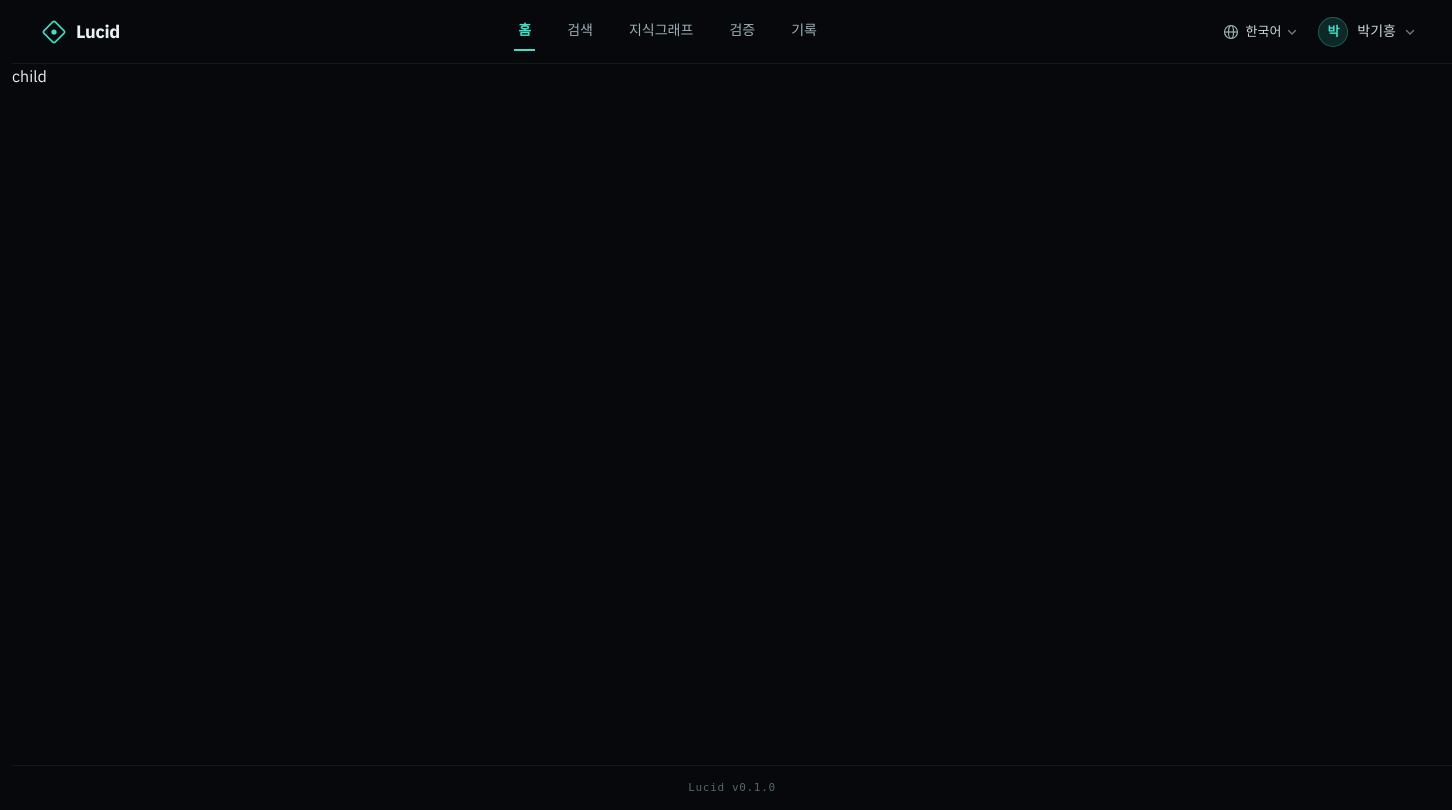
Test: AppShell › REQ-009 — 드롭다운 열림: 한국어 (현재) / English (BETA)
This screenshot has width=1452, height=810.
What coordinates should you click on to do the following:
click the button with test id "app-shell-lang-trigger"
I would click on:
 (1260, 32)
Its box is [1216, 17, 1305, 46].
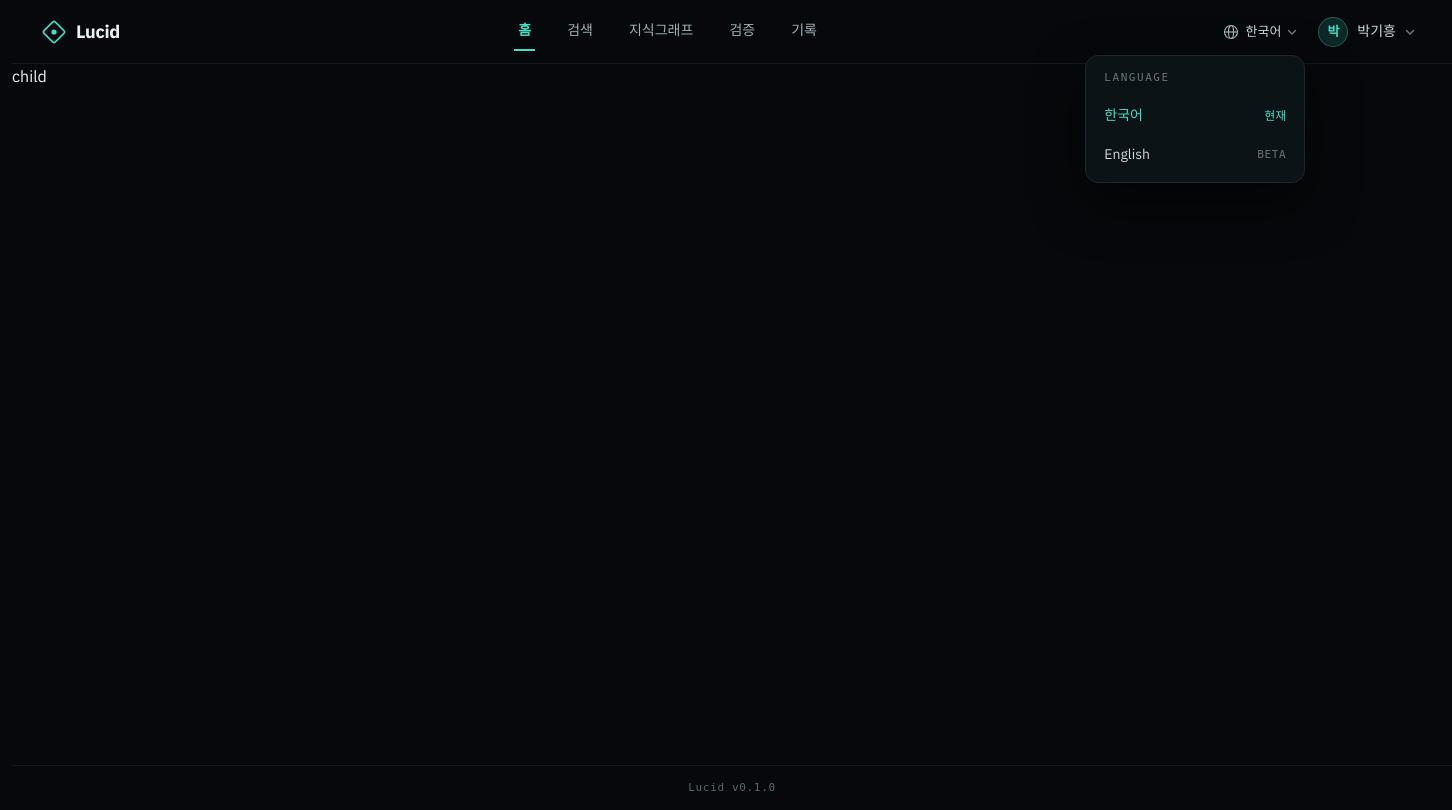
Check: the menu with test id "app-shell-lang-menu" is shown, box [1085, 55, 1305, 183]
Check: the menu item with test id "app-shell-lang-option-ko" shows "한국어", box [1094, 96, 1296, 135]
Check: the menu item with test id "app-shell-lang-option-ko" shows "현재", box [1094, 96, 1296, 135]
